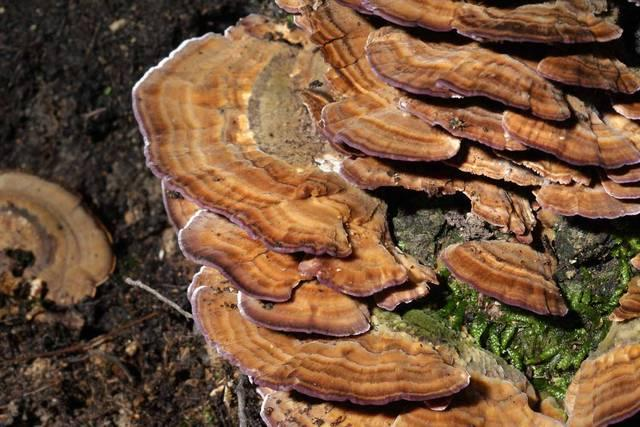poisonous_mushroom: (129, 1, 638, 425)
